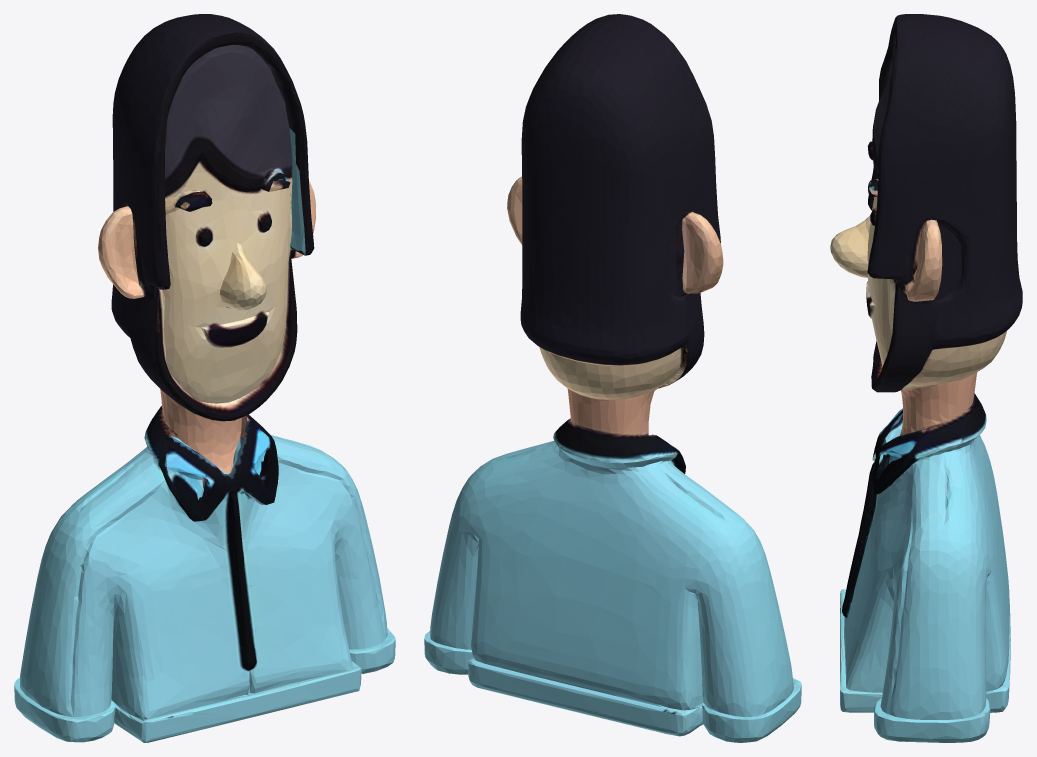
File: man.glb
3 views of the same model, side by side, from view 1: azimuth 30°, elevation 25°; view 2: azimuth 150°, elevation 25°; view 3: azimuth 270°, elevation 25° (orthographic). The views are drawn at different scales.
Parts seen in each view (by area): view 1: geometry_0; view 2: geometry_0; view 3: geometry_0.
Boxes of the visible parts, left/top/right/bottom form: geometry_0: left=14, top=14, right=395, bottom=742; geometry_0: left=424, top=14, right=801, bottom=742; geometry_0: left=830, top=14, right=1022, bottom=742.
Size of the model in its own units: 0.541 by 0.9992 by 0.2696.
Materials: 1 (1 with a texture image).
